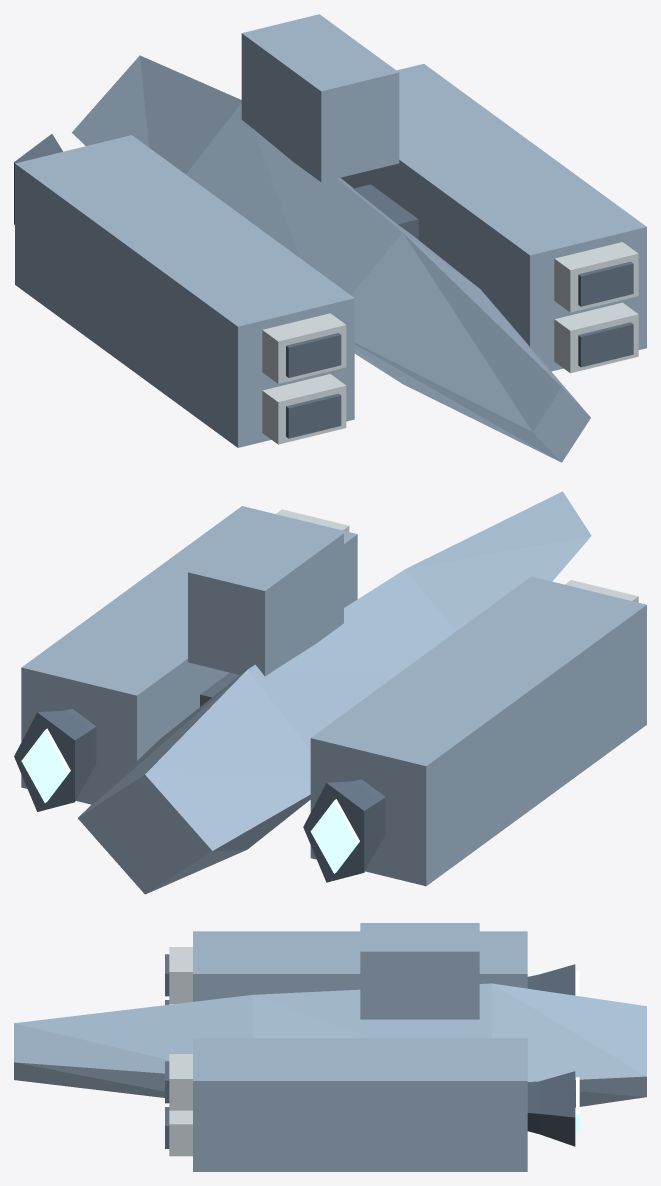
3 renders of one model, top to bottom at view 1: azimuth 30°, elevation 25°; view 2: azimuth 150°, elevation 25°; view 3: azimuth 270°, elevation 25°, orthographic. The views are drawn at different scales.
Bounding box in the file's own units: 6.98 × 4.2 × 12.48.
